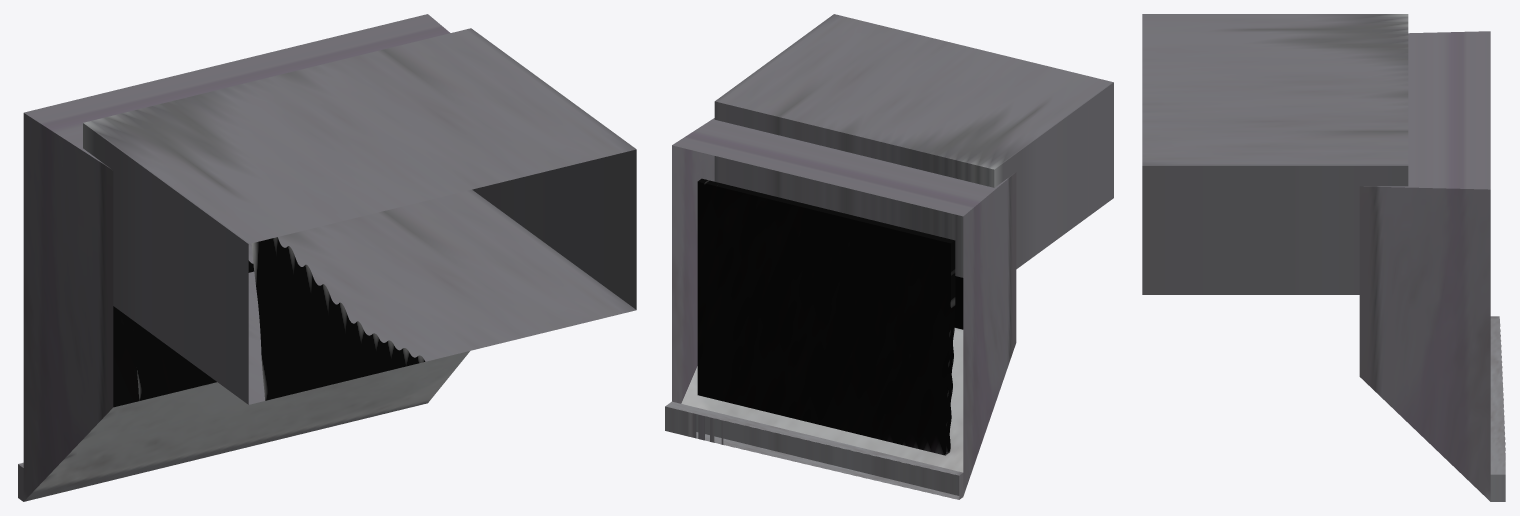
Rendered from pz_extractor_hood.obj.
3 renders of one model, left to right at view 1: azimuth 30°, elevation 25°; view 2: azimuth 150°, elevation 25°; view 3: azimuth 270°, elevation 25°, orthographic. The views are drawn at different scales.
Size of the model in its own units: 1 by 0.98 by 0.9695.
1 material, 1 textured.
